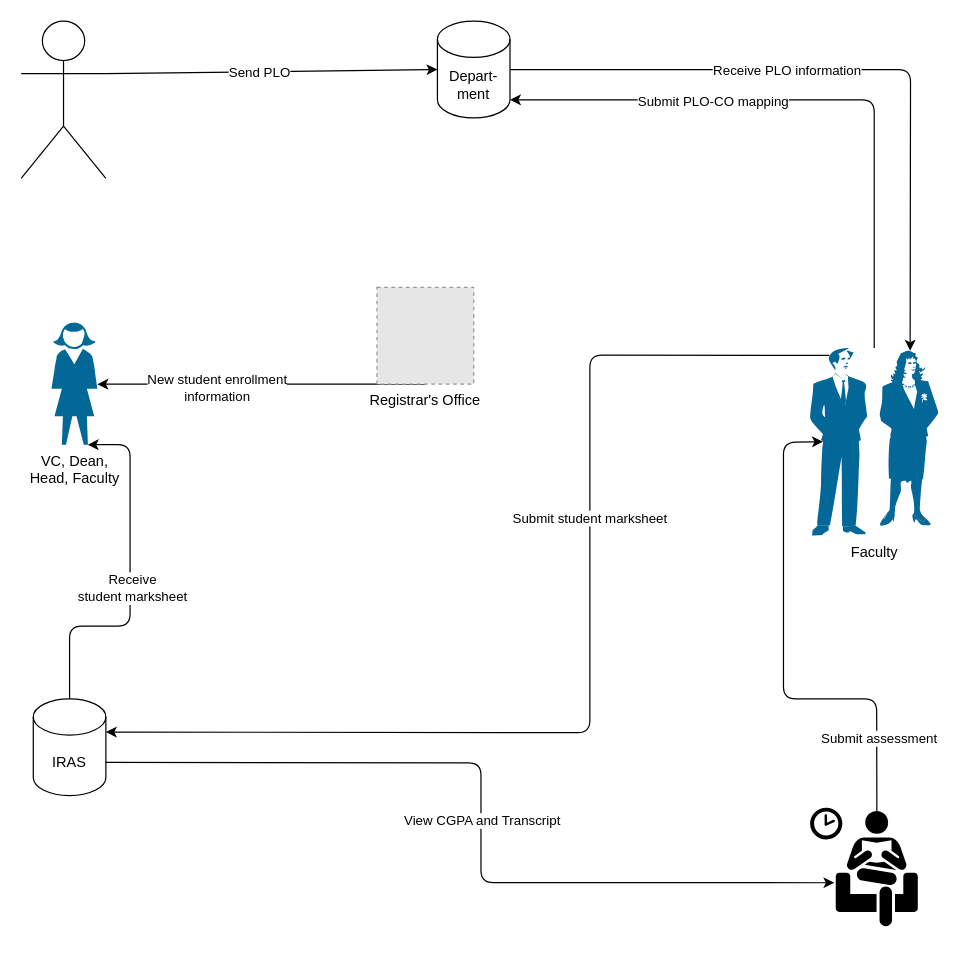
Image size: 961x973. Some labels were removed from this diagram. Grey dashed boxes stand in for pictures. Each missing label, with the box of its shape:
Student: (809, 807, 917, 926)
UGC/IEB: (20, 20, 106, 178)
